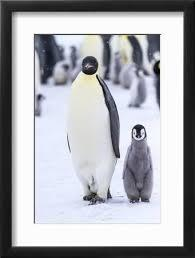emporer: (60, 57, 123, 206)
